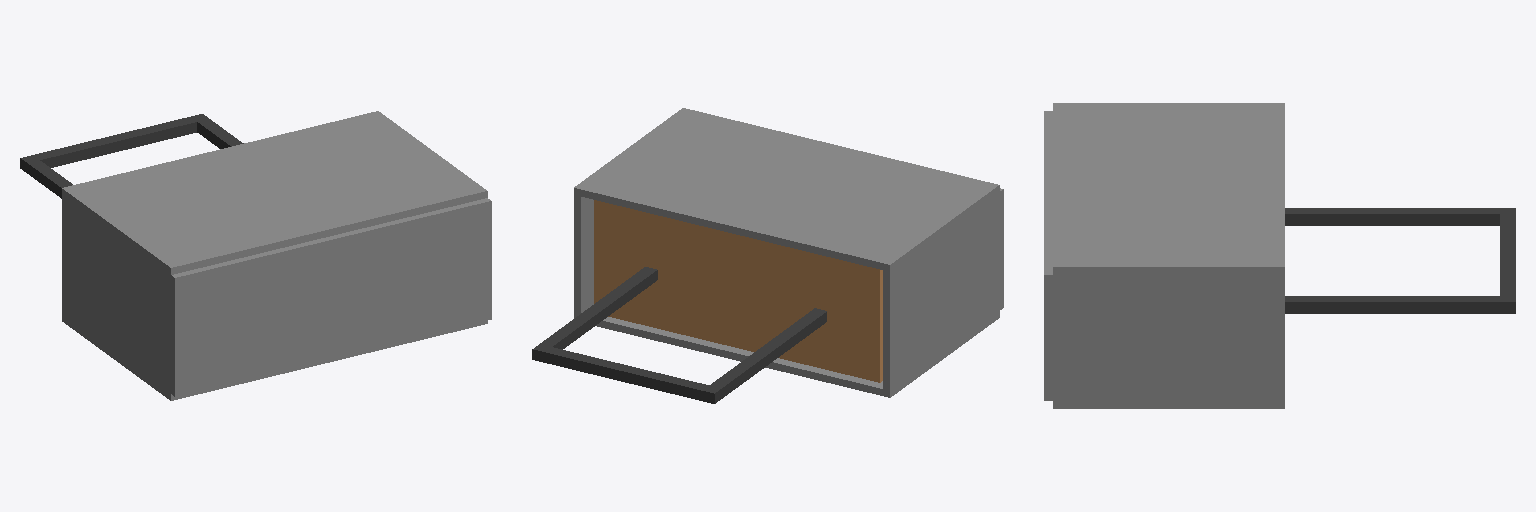
The robot description file, URDF, robot "hollow_drawer":
<?xml version="1.0" ?>
<robot name="hollow_drawer">

  <link name="frame_bottom">
    <visual>
      <geometry>
        <box size="0.41800000000000004 0.25 0.009000000000000001" />
      </geometry>
      <material name="grey"><color rgba="0.6 0.6 0.6 1"/></material>
      <origin xyz="0 0 0.0045000000000000005" />
    </visual>
    <collision>
      <geometry>
        <box size="0.41800000000000004 0.25 0.009000000000000001" />
      </geometry>
      <origin xyz="0 0 0.0045000000000000005" />
    </collision>
  </link>

  <link name="frame_back">
    <visual>
      <geometry>
        <box size="0.41800000000000004 0.009000000000000001 0.15" />
      </geometry>
      <material name="grey"><color rgba="0.6 0.6 0.6 1"/></material>
      <origin xyz="0 -0.1295 0.08399999999999999" />
    </visual>
    <collision>
      <geometry>
        <box size="0.41800000000000004 0.009000000000000001 0.15" />
      </geometry>
      <origin xyz="0 -0.1295 0.08399999999999999" />
    </collision>
  </link>

  <joint name="frame_back_fixed" type="fixed">
    <parent link="frame_bottom"/>
    <child link="frame_back"/>
    <origin xyz="0 0 0"/>
  </joint>

  <link name="frame_left">
    <visual>
      <geometry>
        <box size="0.009000000000000001 0.25 0.15" />
      </geometry>
      <material name="grey"><color rgba="0.6 0.6 0.6 1"/></material>
      <origin xyz="-0.20450000000000002 0 0.08399999999999999" />
    </visual>
    <collision>
      <geometry>
        <box size="0.009000000000000001 0.25 0.15" />
      </geometry>
      <origin xyz="-0.20450000000000002 0 0.08399999999999999" />
    </collision>
  </link>

  <joint name="frame_left_fixed" type="fixed">
    <parent link="frame_bottom"/>
    <child link="frame_left"/>
    <origin xyz="0 0 0"/>
  </joint>

  <link name="frame_right">
    <visual>
      <geometry>
        <box size="0.009000000000000001 0.25 0.15" />
      </geometry>
      <material name="grey"><color rgba="0.6 0.6 0.6 1"/></material>
      <origin xyz="0.20450000000000002 0 0.08399999999999999" />
    </visual>
    <collision>
      <geometry>
        <box size="0.009000000000000001 0.25 0.15" />
      </geometry>
      <origin xyz="0.20450000000000002 0 0.08399999999999999" />
    </collision>
  </link>

  <joint name="frame_right_fixed" type="fixed">
    <parent link="frame_bottom"/>
    <child link="frame_right"/>
    <origin xyz="0 0 0"/>
  </joint>

  <link name="frame_top">
    <visual>
      <geometry>
        <box size="0.41800000000000004 0.25 0.009000000000000001" />
      </geometry>
      <material name="grey"><color rgba="0.6 0.6 0.6 1"/></material>
      <origin xyz="0 0 0.1635" />
    </visual>
    <collision>
      <geometry>
        <box size="0.41800000000000004 0.25 0.009000000000000001" />
      </geometry>
      <origin xyz="0 0 0.1635" />
    </collision>
  </link>

  <joint name="frame_top_fixed" type="fixed">
    <parent link="frame_bottom"/>
    <child link="frame_top"/>
    <origin xyz="0 0 0"/>
  </joint>

  <link name="drawer_bottom">
    <visual>
      <geometry>
        <box size="0.378 0.228 0.01" />
      </geometry>
      <material name="wood"><color rgba="0.8 0.6 0.4 1"/></material>
      <origin xyz="0 0 0.01" />
    </visual>
    <collision>
      <geometry>
        <box size="0.378 0.228 0.01" />
      </geometry>
      <origin xyz="0 0 0.01" />
    </collision>
  </link>

  <link name="drawer_back">
    <visual>
      <geometry>
        <box size="0.378 0.01 0.13799999999999998" />
      </geometry>
      <material name="wood"><color rgba="0.8 0.6 0.4 1"/></material>
      <origin xyz="0 -0.109 0.08399999999999999" />
    </visual>
    <collision>
      <geometry>
        <box size="0.378 0.01 0.13799999999999998" />
      </geometry>
      <origin xyz="0 -0.109 0.08399999999999999" />
    </collision>
  </link>
  <joint name="drawer_back_fixed" type="fixed">
    <parent link="drawer_bottom"/>
    <child link="drawer_back"/>
    <origin xyz="0 0 0"/>
  </joint>

    <link name="drawer_front">
      <visual>
        <geometry>
          <box size="0.378 0.01 0.13799999999999998" />
        </geometry>
        <material name="wood"><color rgba="0.8 0.6 0.4 1"/></material>
        <origin xyz="0 0.109 0.08399999999999999" />
      </visual>
      <collision>
        <geometry>
          <box size="0.378 0.01 0.13799999999999998" />
        </geometry>
        <origin xyz="0 0.109 0.08399999999999999" />
      </collision>
    </link>
    <joint name="drawer_front_fixed" type="fixed">
      <parent link="drawer_bottom"/>
      <child link="drawer_front"/>
      <origin xyz="0 0 0"/>
    </joint>

  <link name="drawer_left">
    <visual>
      <geometry>
        <box size="0.01 0.228 0.13799999999999998" />
      </geometry>
      <material name="wood"><color rgba="0.8 0.6 0.4 1"/></material>
      <origin xyz="-0.184 0 0.08399999999999999" />
    </visual>
    <collision>
      <geometry>
        <box size="0.01 0.228 0.13799999999999998" />
      </geometry>
      <origin xyz="-0.184 0 0.08399999999999999" />
    </collision>
  </link>
  <joint name="drawer_left_fixed" type="fixed">
    <parent link="drawer_bottom"/>
    <child link="drawer_left"/>
    <origin xyz="0 0 0"/>
  </joint>

  <link name="drawer_right">
    <visual>
      <geometry>
        <box size="0.01 0.228 0.13799999999999998" />
      </geometry>
      <material name="wood"><color rgba="0.8 0.6 0.4 1"/></material>
      <origin xyz="0.184 0 0.08399999999999999" />
    </visual>
    <collision>
      <geometry>
        <box size="0.01 0.228 0.13799999999999998" />
      </geometry>
      <origin xyz="0.184 0 0.08399999999999999" />
    </collision>
  </link>
  <joint name="drawer_right_fixed" type="fixed">
    <parent link="drawer_bottom"/>
    <child link="drawer_right"/>
    <origin xyz="0 0 0"/>
  </joint>

  <link name="handle_left">
    <visual>
      <geometry>
        <box size="0.01644796133041382 0.24989978969097137 0.013334367424249649" />
      </geometry>
      <material name="metal"><color rgba="0.3 0.3 0.3 1"/></material>
    </visual>
    <collision>
      <geometry>
        <box size="0.01644796133041382 0.24989978969097137 0.013334367424249649" />
      </geometry>
    </collision>
  </link>
  <joint name="handle_left_fixed" type="fixed">
    <parent link="drawer_front"/>
    <child link="handle_left"/>
    <origin xyz="-0.11207035183906555 0.23994989484548568 0.07333281628787518"/>
  </joint>

  <link name="handle_right">
    <visual>
      <geometry>
        <box size="0.01644796133041382 0.24989978969097137 0.013334367424249649" />
      </geometry>
      <material name="metal"><color rgba="0.3 0.3 0.3 1"/></material>
    </visual>
    <collision>
      <geometry>
        <box size="0.01644796133041382 0.24989978969097137 0.013334367424249649" />
      </geometry>
    </collision>
  </link>
  <joint name="handle_right_fixed" type="fixed">
    <parent link="drawer_front"/>
    <child link="handle_right"/>
    <origin xyz="0.11207035183906555 0.23994989484548568 0.07333281628787518"/>
  </joint>

    <link name="handle_front">
        <visual>
            <geometry>
                <box size="0.24058866500854492 0.01644796133041382 0.013334367424249649" />
            </geometry>
            <material name="metal"><color rgba="0.3 0.3 0.3 1"/></material>
        </visual>
        <collision>
            <geometry>
                <box size="0.24058866500854492 0.01644796133041382 0.013334367424249649" />
            </geometry>
        </collision>
    </link>
    <joint name="handle_front_fixed" type="fixed">
        <parent link="drawer_front"/>
        <child link="handle_front"/>
        <origin xyz="0 0.36489978969097137 0.07333281628787518"/>
    </joint>

  <joint name="drawer_slide" type="prismatic">
    <parent link="frame_bottom"/>
    <child link="drawer_bottom"/>
    <origin xyz="0 0 0.005"/>
    <axis xyz="0 1 0"/>
    <limit lower="0" upper="0.25" effort="50" velocity="0.2"/>
  </joint>

</robot>

--- Facts derived from the render (not from the file) ---
3 views of the same robot in one strip: view 1: azimuth 30°, elevation 25°; view 2: azimuth 150°, elevation 25°; view 3: azimuth 270°, elevation 25° (orthographic).
Robot: hollow_drawer — 13 links, 12 joints (1 prismatic, 11 fixed); root link frame_bottom; default pose: all joints at 0.
Visible links, largest first — view 1: frame_back, frame_top, frame_left, handle_front, frame_bottom, handle_left, handle_right; view 2: frame_top, drawer_front, frame_left, frame_bottom, handle_front, handle_left, handle_right, frame_right, drawer_bottom, drawer_left; view 3: frame_top, frame_right, handle_right, handle_left, frame_back, frame_bottom, handle_front.
Link boxes in pixels (box(x1,y1,x2,y2)): frame_back: box(171, 198, 491, 396); frame_top: box(62, 111, 487, 274); frame_left: box(62, 196, 170, 393); handle_front: box(20, 114, 204, 170); frame_bottom: box(62, 315, 487, 400); handle_left: box(24, 158, 72, 198); handle_right: box(195, 116, 243, 148); frame_top: box(574, 108, 999, 271); drawer_front: box(594, 200, 882, 374); frame_left: box(883, 192, 999, 390); frame_bottom: box(574, 311, 999, 397); handle_front: box(532, 344, 721, 403); handle_left: box(707, 308, 826, 399); handle_right: box(540, 267, 657, 349); frame_right: box(574, 195, 593, 314); drawer_bottom: box(608, 311, 882, 382); drawer_left: box(872, 268, 882, 374); frame_top: box(1053, 103, 1284, 274); frame_right: box(1053, 275, 1284, 400); handle_right: box(1285, 296, 1507, 313); handle_left: box(1285, 208, 1507, 225); frame_back: box(1044, 111, 1052, 400); frame_bottom: box(1053, 401, 1284, 408); handle_front: box(1500, 208, 1515, 313).
Bounding box of the posed robot: 0.418 × 0.5071 × 0.168 m (x, y, z).
Geometry: primitives only (box / cylinder / sphere), no mesh files.
